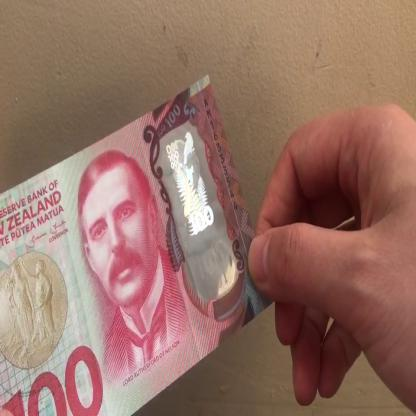100F: (165, 129, 227, 276)
